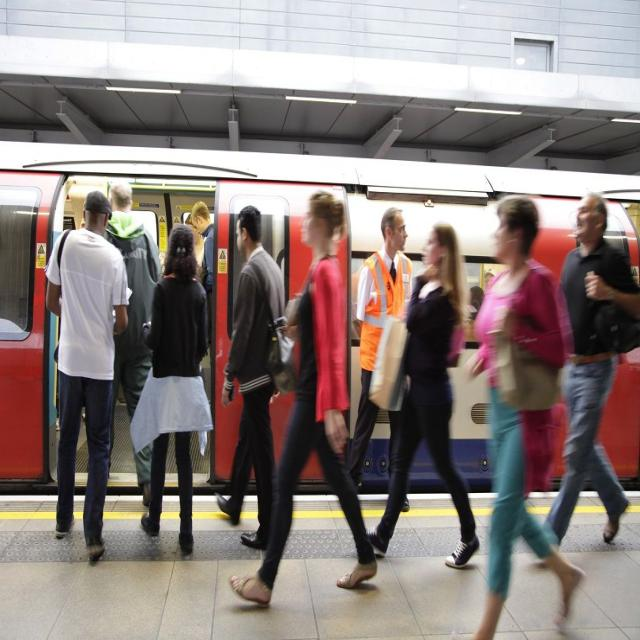body: (228, 189, 379, 609), (462, 190, 590, 639), (359, 221, 480, 569), (540, 191, 640, 554), (43, 188, 129, 560), (137, 223, 215, 556), (214, 202, 288, 552), (344, 203, 419, 513), (104, 178, 164, 508), (190, 199, 214, 370), (188, 208, 214, 364), (461, 268, 497, 338)
